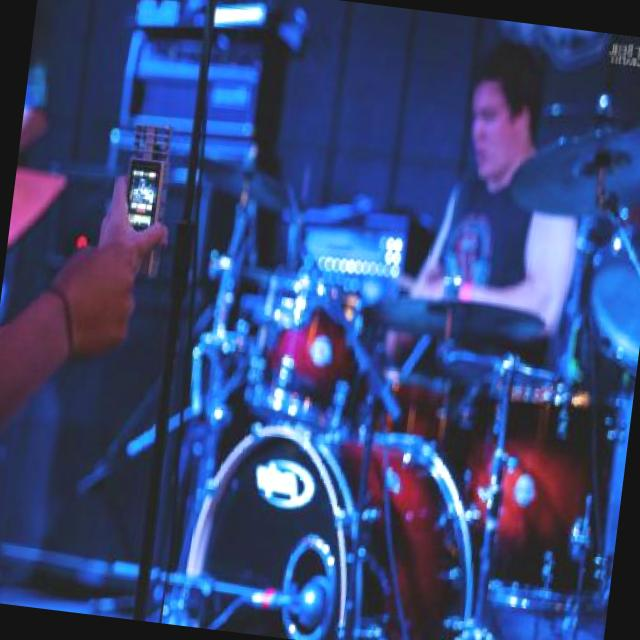Person: (397, 35, 608, 345), (0, 226, 141, 453), (91, 168, 175, 283)
